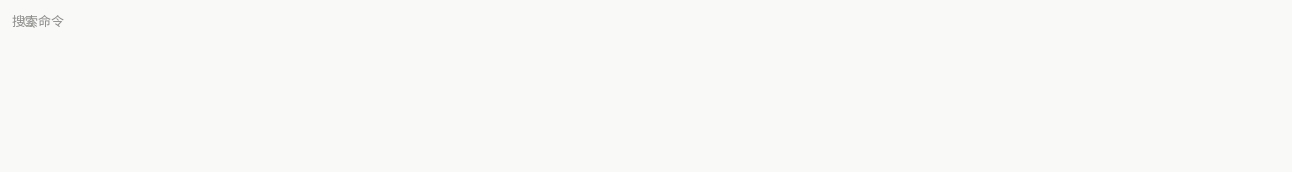
SearchInput › clears and refocuses the search field
The width and height of the screenshot is (1292, 172).
Type "docker" into the search field labelled "搜索命令" at {"x": 110, "y": 22}, box x1=12 y1=12 x2=208 y2=32
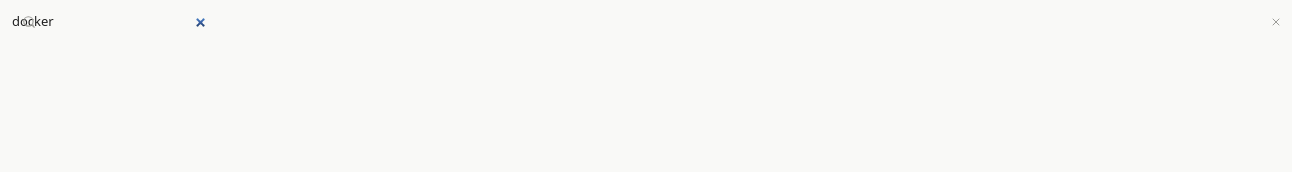
Click the button named "清空搜索" at {"x": 1276, "y": 22}, box x1=1266 y1=12 x2=1286 y2=32
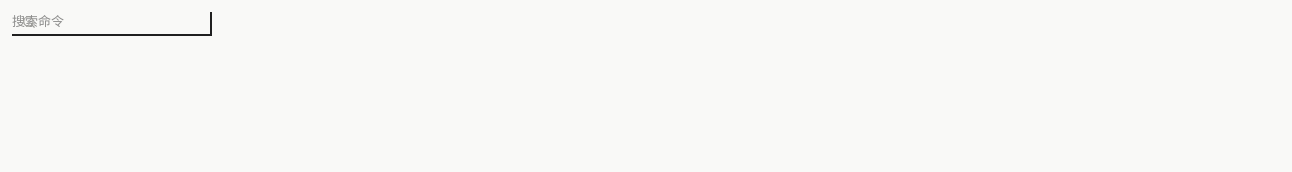
Expected: the search field labelled "搜索命令" is empty, x1=12 y1=12 x2=208 y2=32
